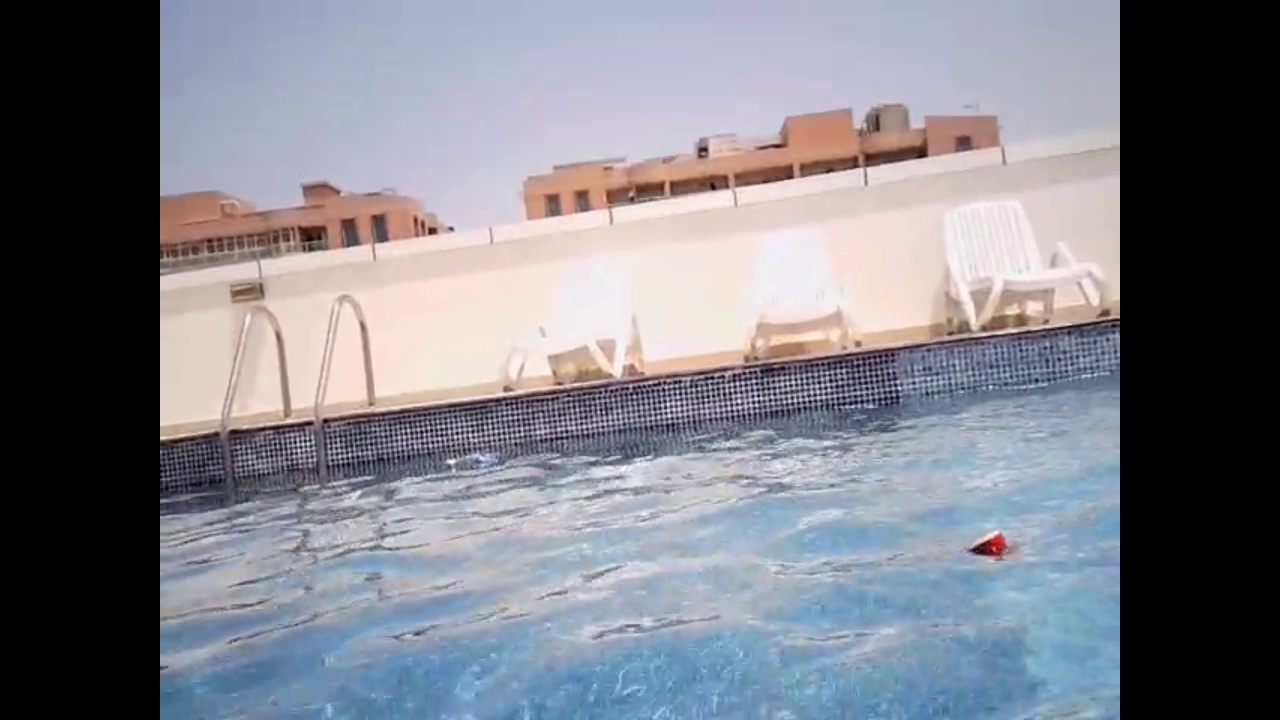debris: (962, 523, 1009, 567), (440, 455, 456, 471), (470, 454, 488, 468)
